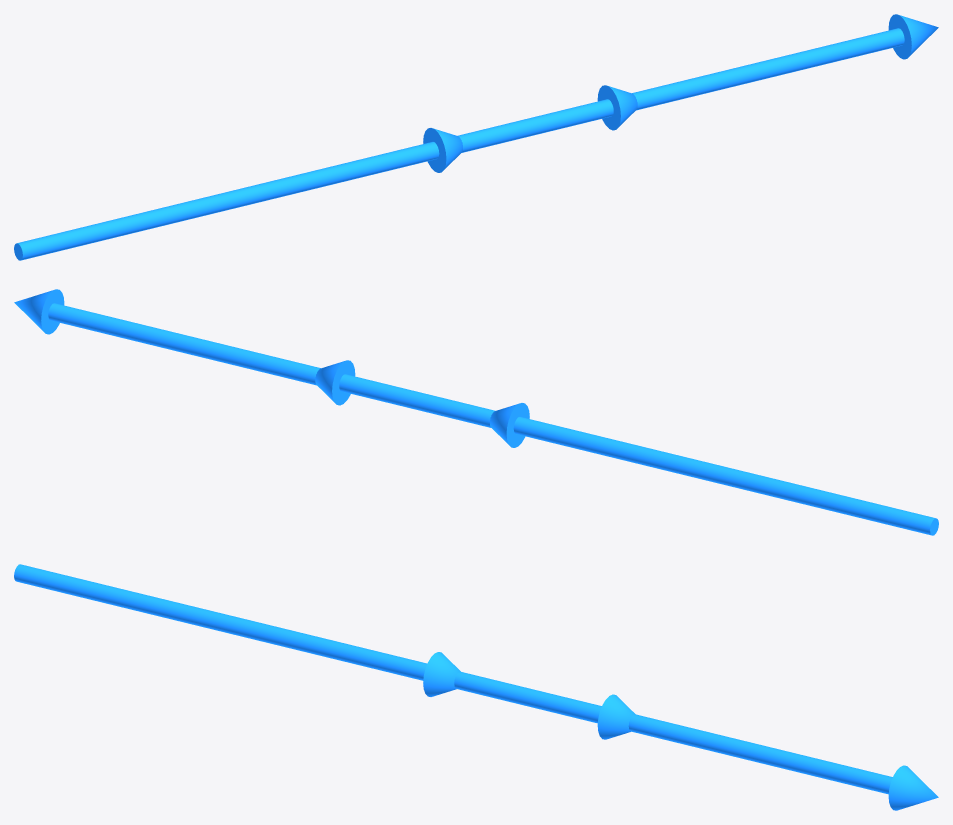
File: flow_nozzle_flow.glb
3 renders of one model, top to bottom at view 1: azimuth 30°, elevation 25°; view 2: azimuth 150°, elevation 25°; view 3: azimuth 330°, elevation 25°, orthographic.
Parts seen in each view (by area): view 1: flow; view 2: flow; view 3: flow.
Part boxes in pixels (x1,y1,x2,y2): flow: (14, 14, 938, 260); flow: (14, 289, 938, 535); flow: (14, 564, 938, 810).
Size of the model in its own units: 1.42 by 0.0624 by 0.0624.
